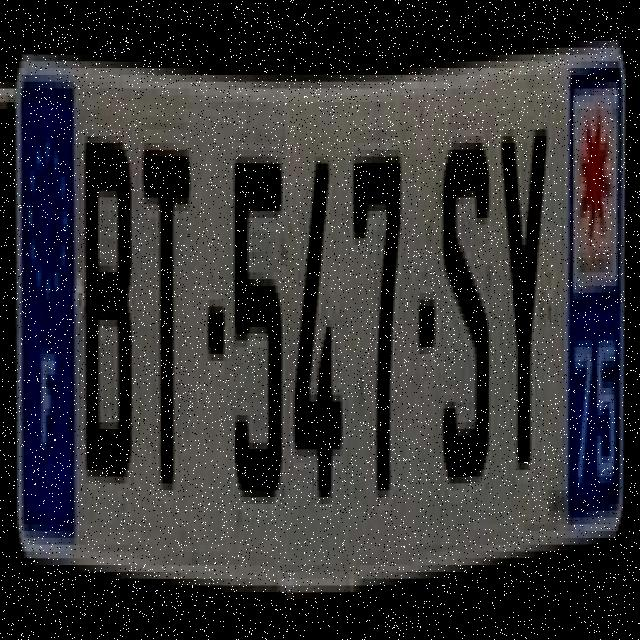licenseplate: (6, 0, 634, 640)
